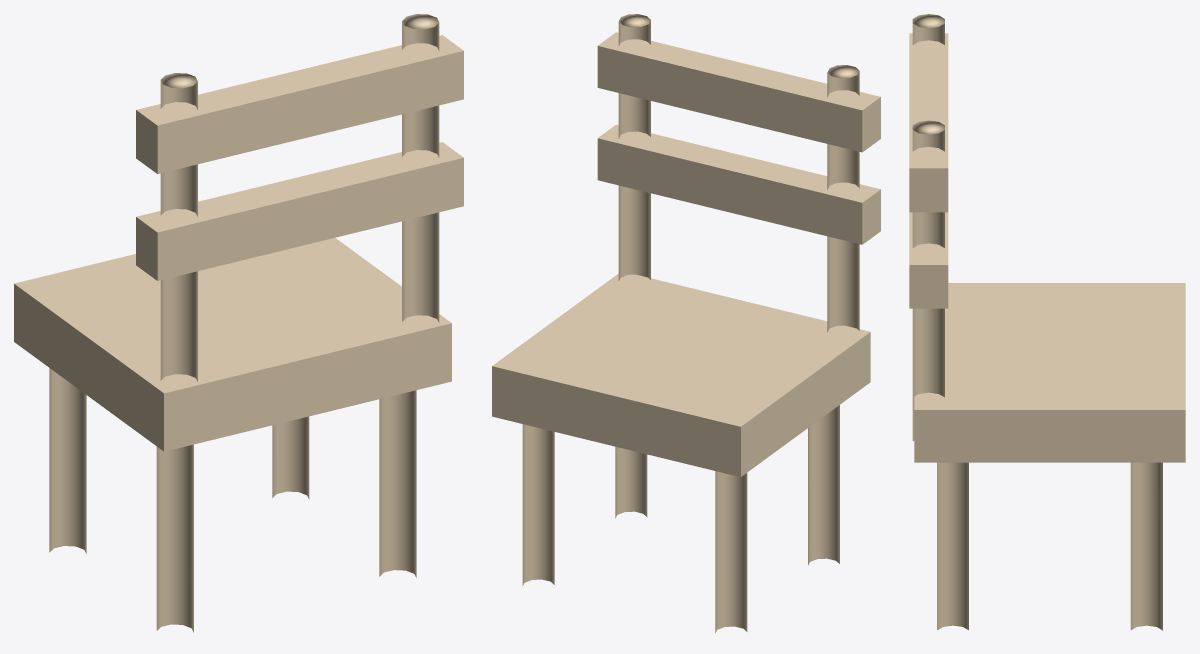
Rendered from chair.glb.
The picture shows the model from 3 angles, left to right: view 1: azimuth 30°, elevation 25°; view 2: azimuth 150°, elevation 25°; view 3: azimuth 270°, elevation 25°; orthographic projection. The views are drawn at different scales.
Parts seen in each view (by area): view 1: chair; view 2: chair; view 3: chair.
Boxes of the visible parts, x1=… form: chair: x1=14, y1=14, x2=463, y2=632; chair: x1=492, y1=14, x2=880, y2=632; chair: x1=909, y1=14, x2=1185, y2=630.
Bounding box in the file's own units: 0.66 × 1.16 × 0.57.
